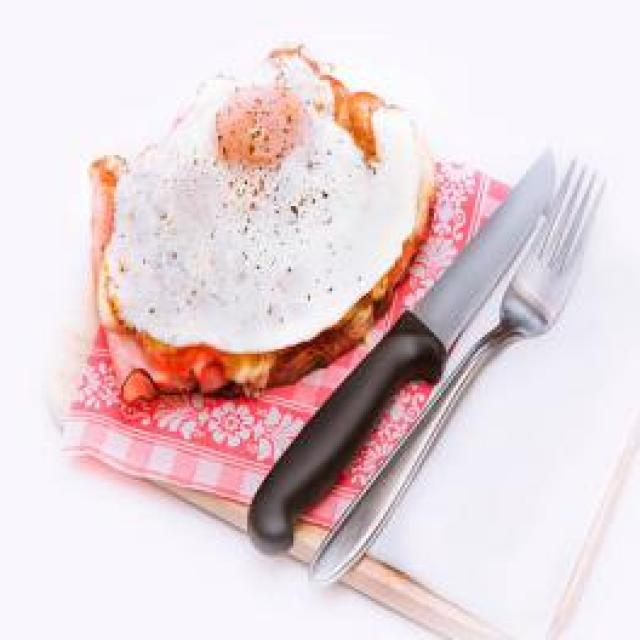knife: (250, 145, 560, 558)
